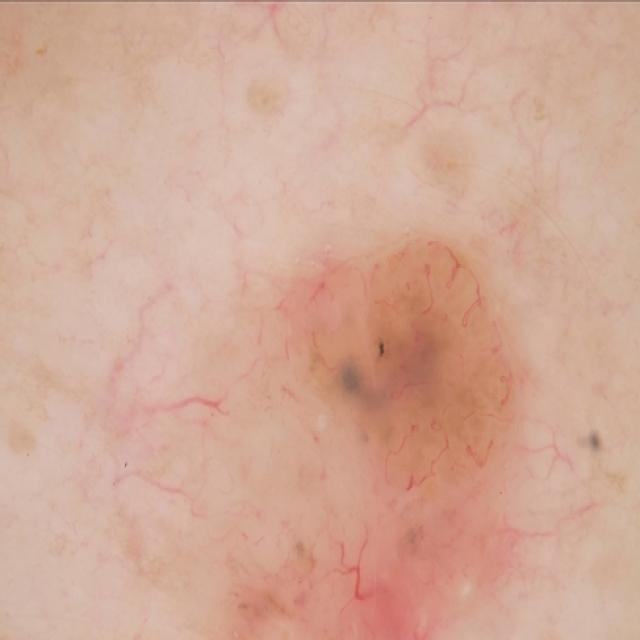Carcinoma: (78, 209, 626, 640)
